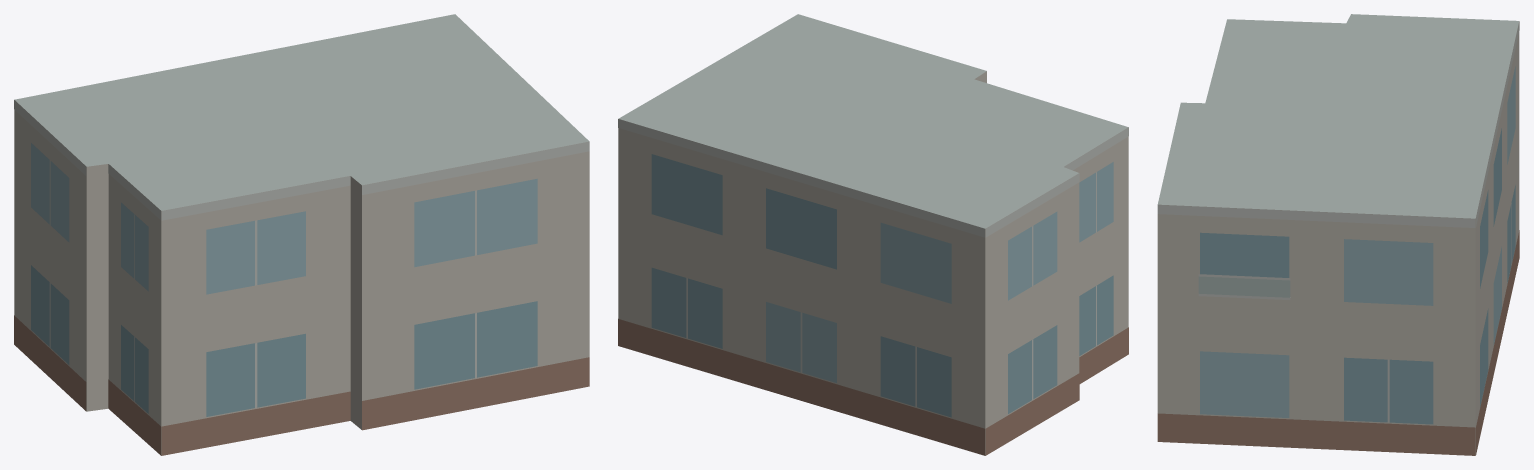
The model's file is survey-upis-32807179.glb.
The picture shows the model from 3 angles, left to right: view 1: azimuth 30°, elevation 25°; view 2: azimuth 150°, elevation 25°; view 3: azimuth 270°, elevation 25°; orthographic projection. The views are drawn at different scales.
Visible parts, largest first — view 1: survey-upis-32807179.tmp; view 2: survey-upis-32807179.tmp; view 3: survey-upis-32807179.tmp.
Boxes of the visible parts, bbox=[...] form: survey-upis-32807179.tmp: bbox=[14, 14, 589, 455]; survey-upis-32807179.tmp: bbox=[618, 14, 1128, 455]; survey-upis-32807179.tmp: bbox=[1157, 14, 1519, 455].
Bounding box in the file's own units: 11.3 × 6.1 × 8.44.
